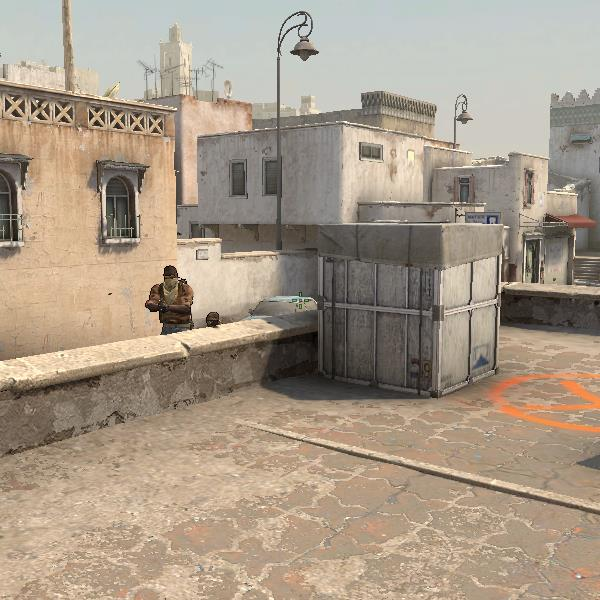t_body: (138, 260, 205, 332)
t_head: (155, 261, 185, 291)
